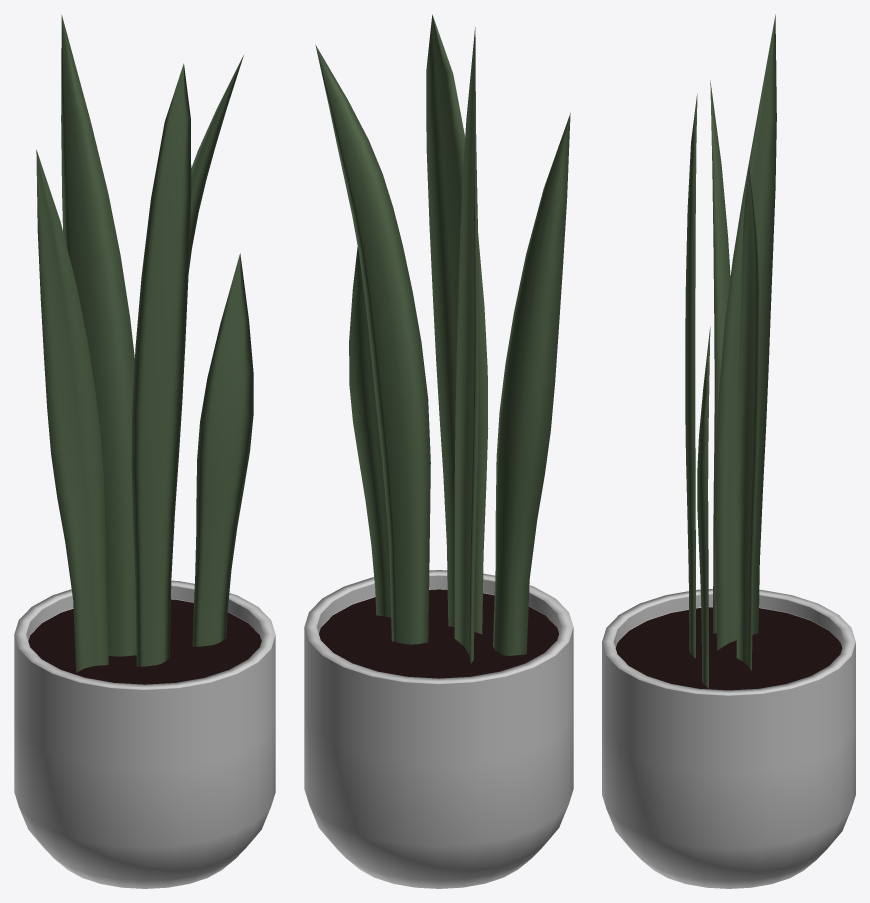
File: plant1 1.fbx
3 views of the same model, side by side, from view 1: azimuth 30°, elevation 25°; view 2: azimuth 150°, elevation 25°; view 3: azimuth 270°, elevation 25° (orthographic). The views are drawn at different scales.
Parts seen in each view (by area): view 1: 01; view 2: 01; view 3: 01.
Part boxes in pixels (x1,y1,x2,y2): 01: (14, 15, 275, 888); 01: (304, 14, 573, 888); 01: (602, 14, 855, 888).
Size of the model in its own units: 197 by 679 by 193.
